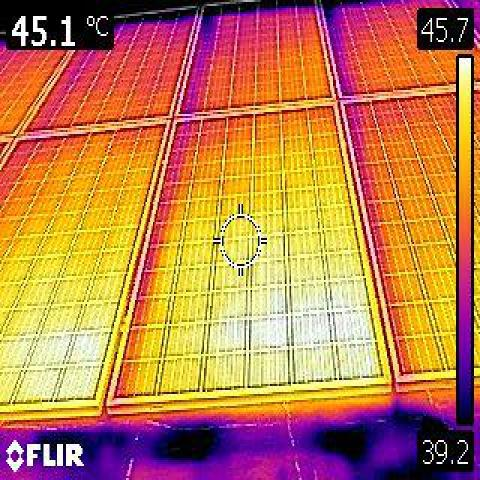fault: (223, 282, 375, 382), (28, 318, 104, 402)
